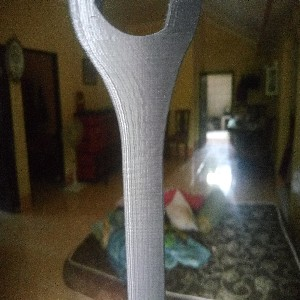spanner: (68, 1, 203, 299)
